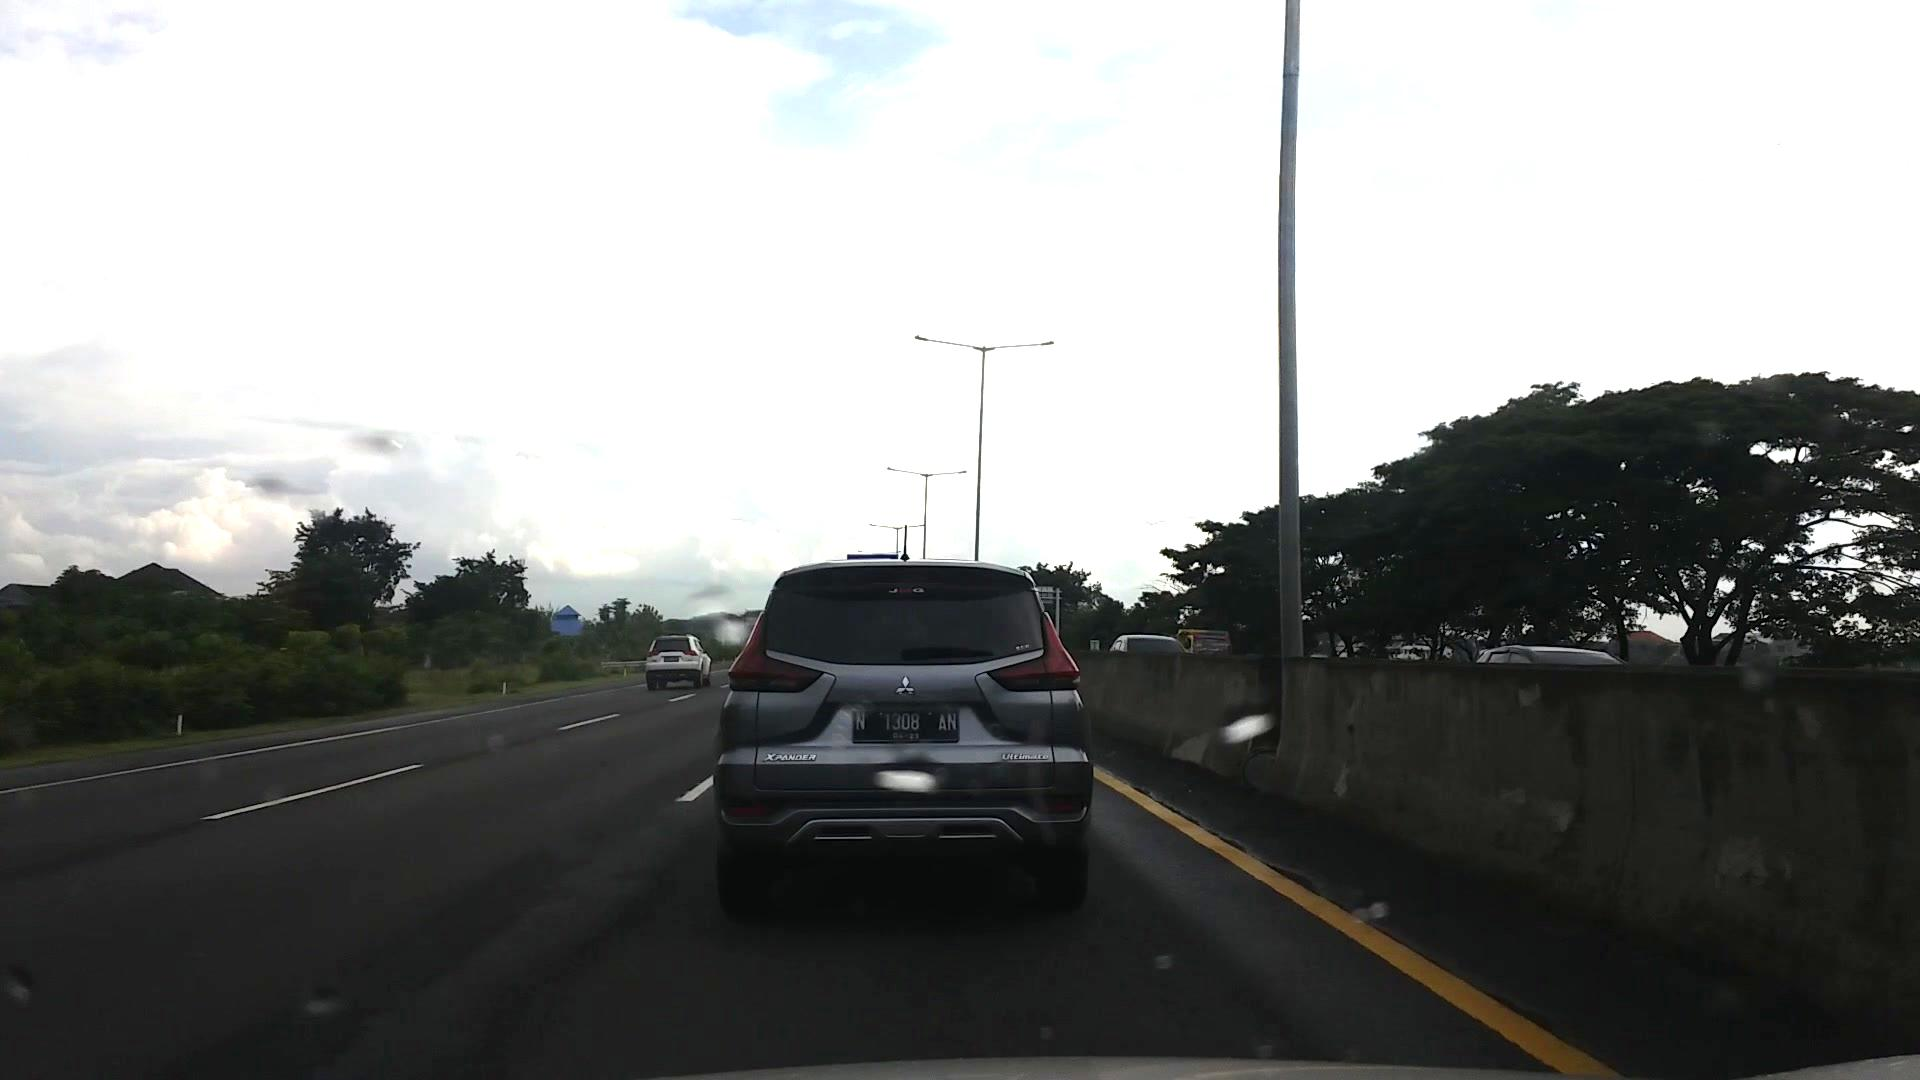plate_positive: (852, 709, 960, 742)
